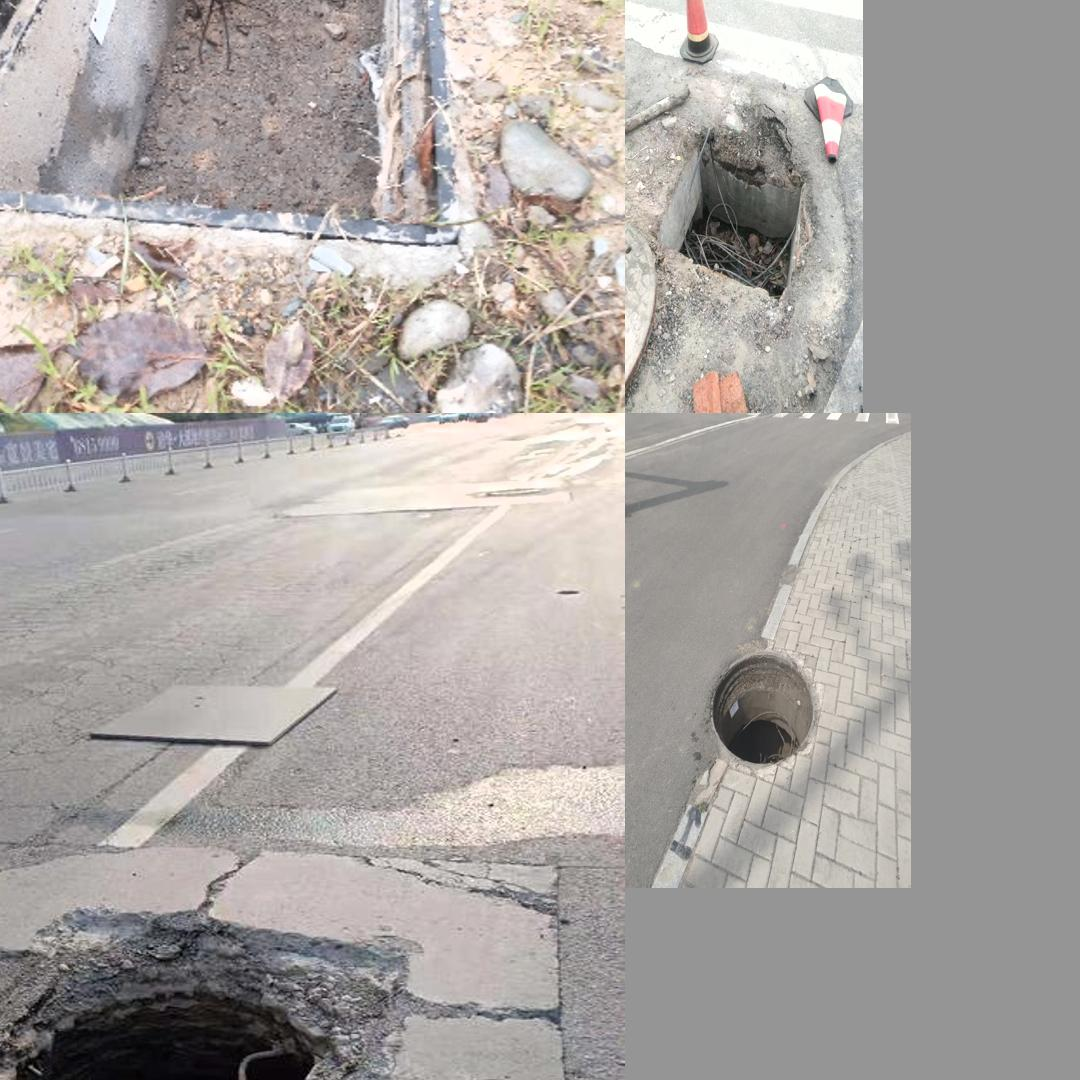lose: (0, 0, 446, 223), (0, 884, 432, 1080), (655, 134, 805, 301), (710, 650, 816, 765)
